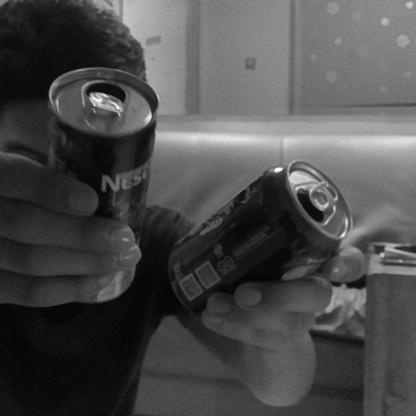alumunium_can: (162, 154, 354, 316), (44, 68, 160, 306)
